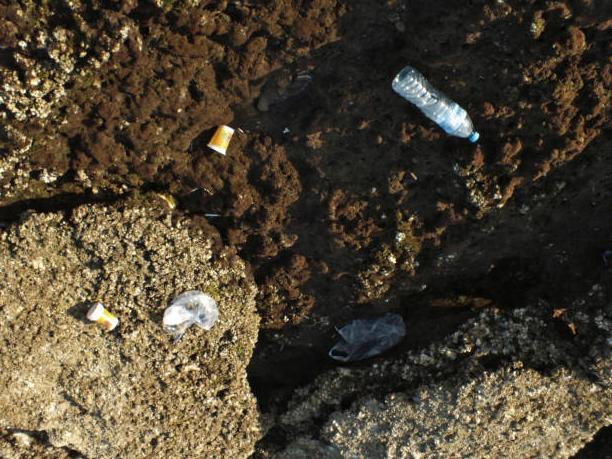Plastic: (382, 61, 487, 148)
Trash: (328, 316, 416, 356), (158, 288, 228, 328)
